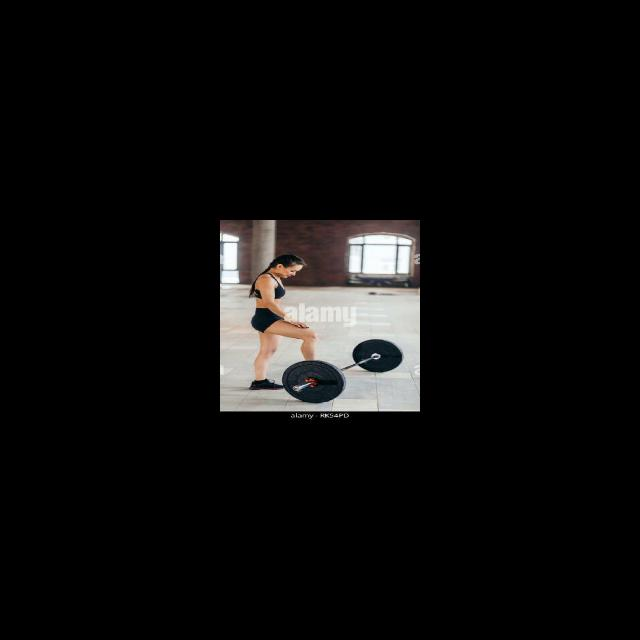barbell: (279, 357, 350, 406)
